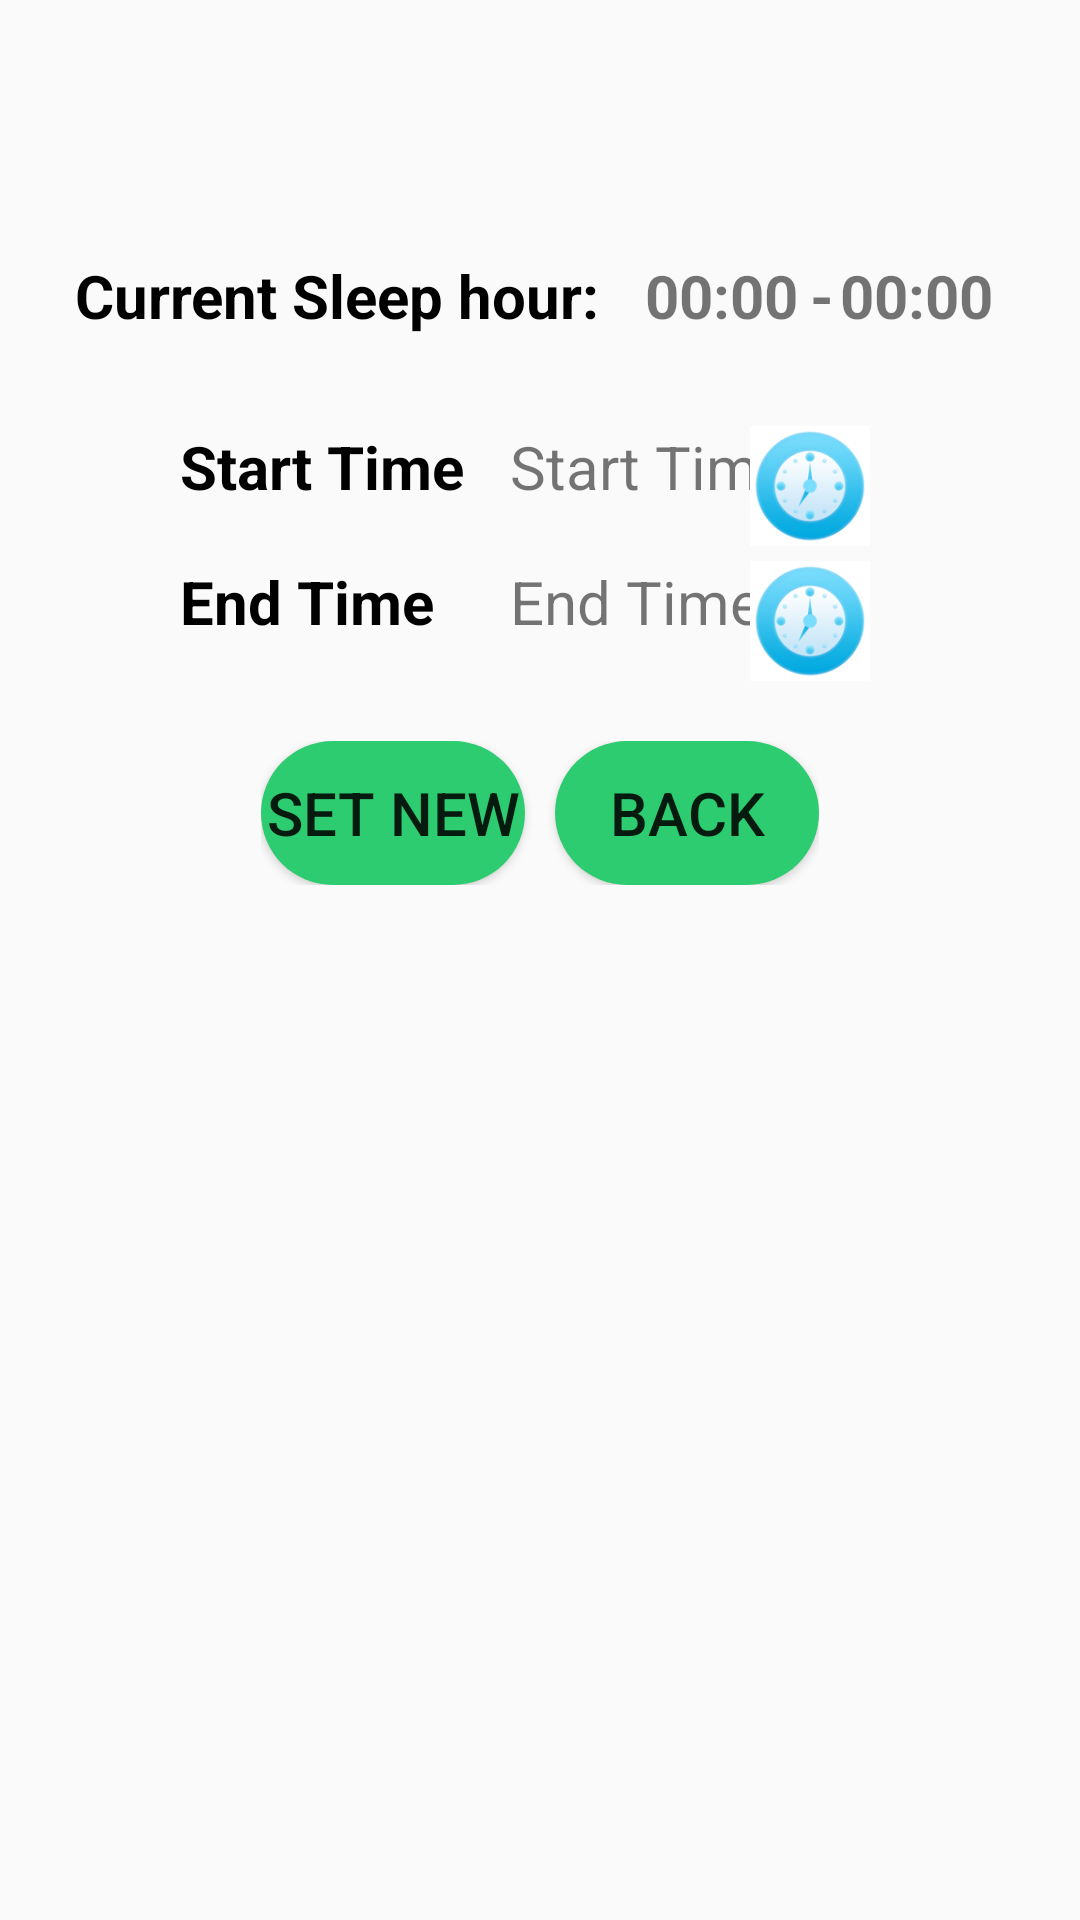

Named icons in this screenshot (1080w x 1920h) and their bounding boxes, (x1,y1,x2,y2):
clock: (755,431,865,541), (755,566,865,676)
